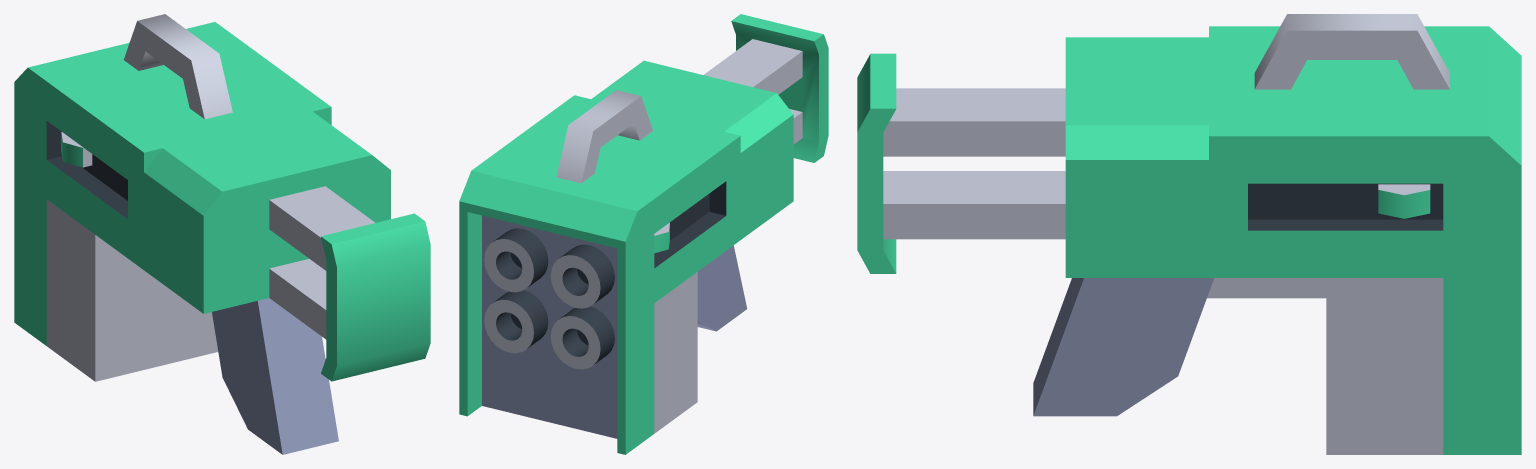
File: blasterO.obj
3 renders of one model, left to right at view 1: azimuth 30°, elevation 25°; view 2: azimuth 150°, elevation 25°; view 3: azimuth 270°, elevation 25°, orthographic. The views are drawn at different scales.
Parts seen in each view (by area): view 1: blasterO; view 2: blasterO; view 3: blasterO.
Part boxes in pixels (x1,y1,x2,y2): blasterO: (14, 14, 430, 454); blasterO: (459, 14, 828, 454); blasterO: (857, 14, 1521, 454).
Size of the model in its own units: 0.2 by 0.32 by 0.51.
